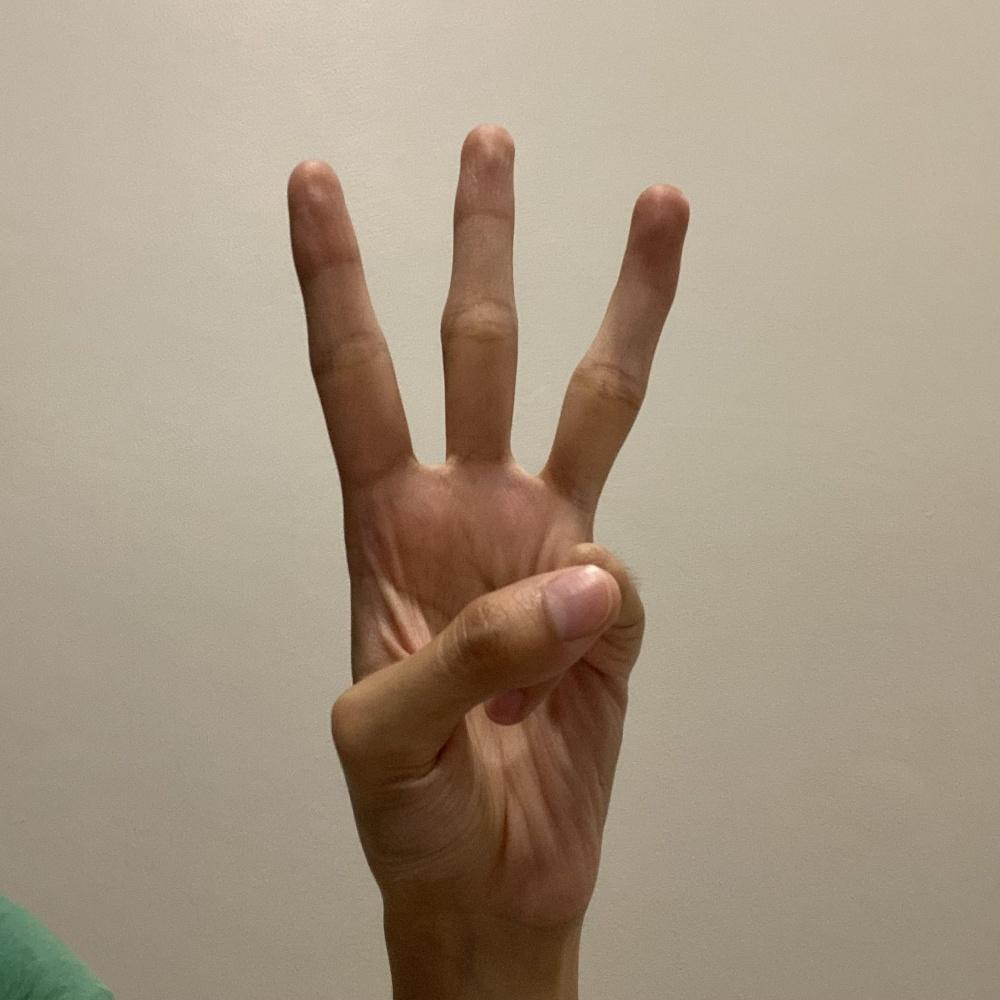w: (277, 119, 693, 942)
